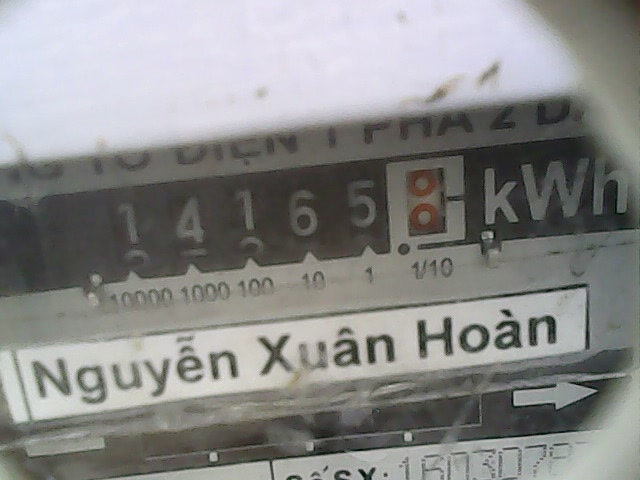phy_plate: (79, 145, 480, 268)
